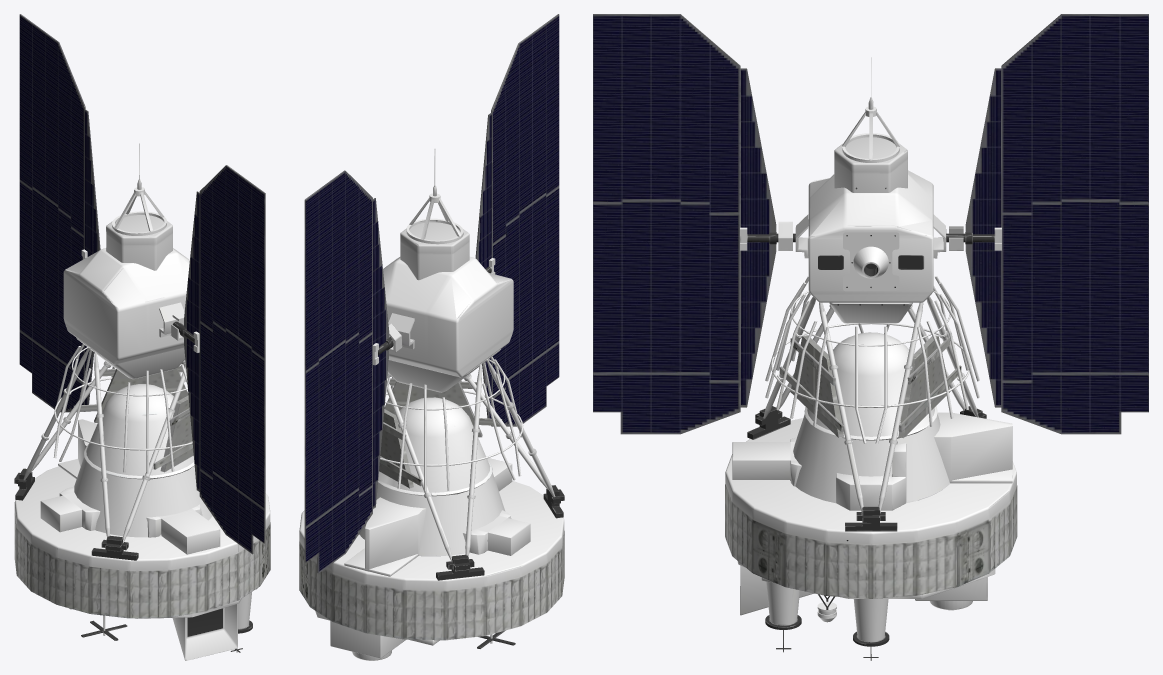
File: landsat-1.glb
3 renders of one model, left to right at view 1: azimuth 30°, elevation 25°; view 2: azimuth 150°, elevation 25°; view 3: azimuth 270°, elevation 25°, orthographic. The views are drawn at different scales.
Visible parts, largest first — view 1: L1_Baked; view 2: L1_Baked; view 3: L1_Baked.
Part boxes in pixels (x1,y1,x2,y2): L1_Baked: (14, 14, 270, 660); L1_Baked: (299, 14, 564, 660); L1_Baked: (593, 14, 1148, 660).
Bounding box in the file's own units: 2.02 × 4.58 × 3.81.
1 material, 1 textured.
